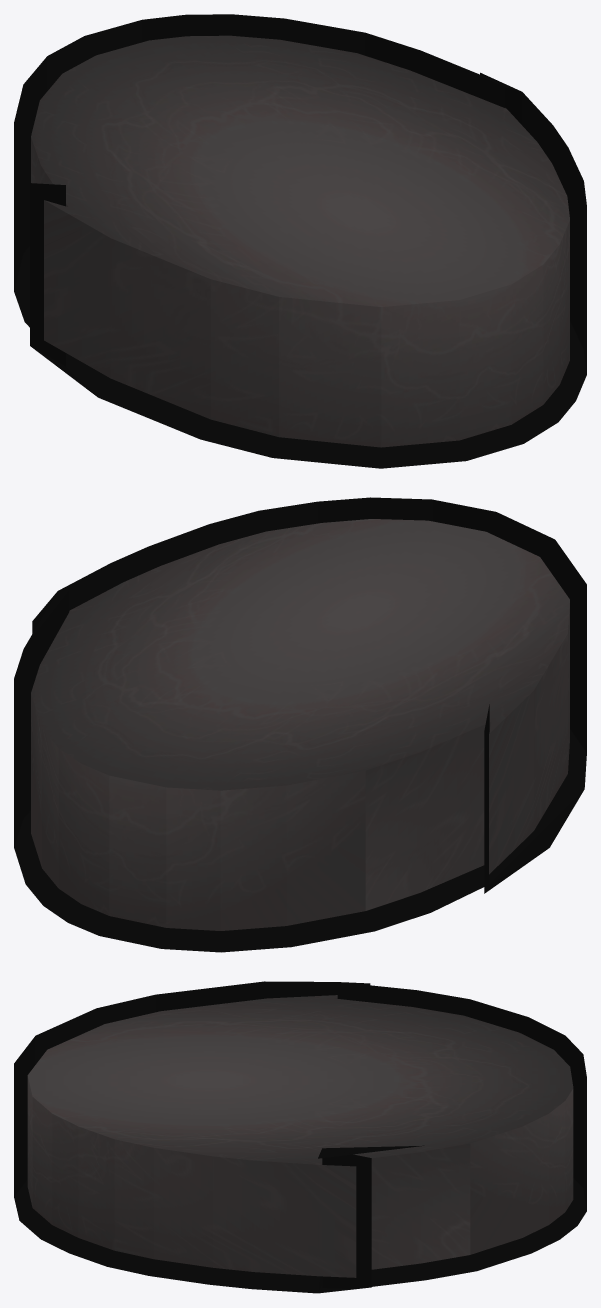
Rendered from Building_VoidNode_Things_Building_VoidNode_Core.glb.
3 views of the same model, one above another, from view 1: azimuth 30°, elevation 25°; view 2: azimuth 150°, elevation 25°; view 3: azimuth 270°, elevation 25° (orthographic). The views are drawn at different scales.
Visible parts, largest first — view 1: Body, Outline; view 2: Body, Outline; view 3: Body, Outline.
Boxes of the visible parts, <box> form: Body: <box>31,35,569,447</box>; Outline: <box>14,14,586,468</box>; Body: <box>31,519,569,930</box>; Outline: <box>14,497,586,952</box>; Body: <box>27,995,573,1277</box>; Outline: <box>14,981,586,1293</box>.
Bounding box in the file's own units: 3.58 × 1.36 × 4.88.
Materials: 2 (1 with a texture image).
